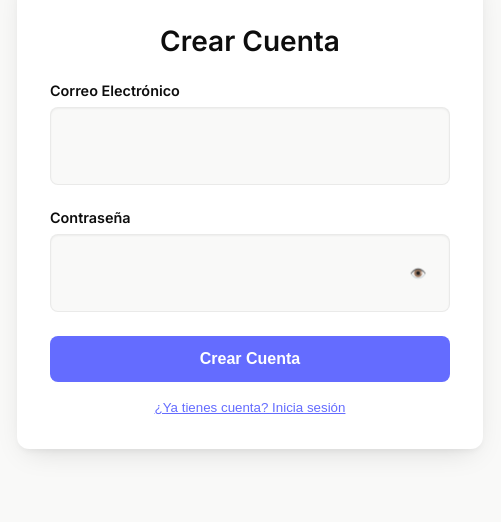
Test: AuthForm Component › prevents submission with invalid data
The image size is (501, 522).
Click the button "Crear Cuenta" at x=250, y=359, box [50,336,450,382]
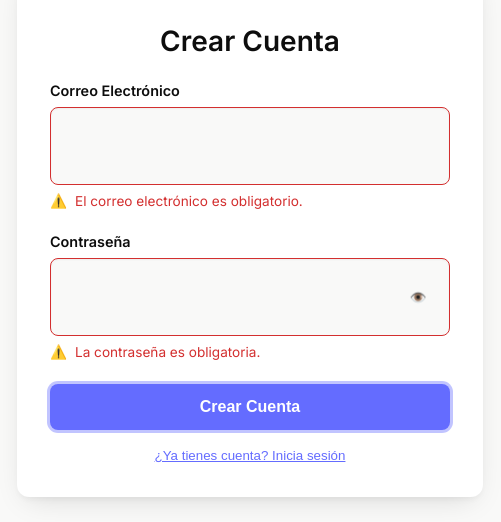
Expected: the number of messages is 2, [50,193,303,209]; [50,344,260,360]
